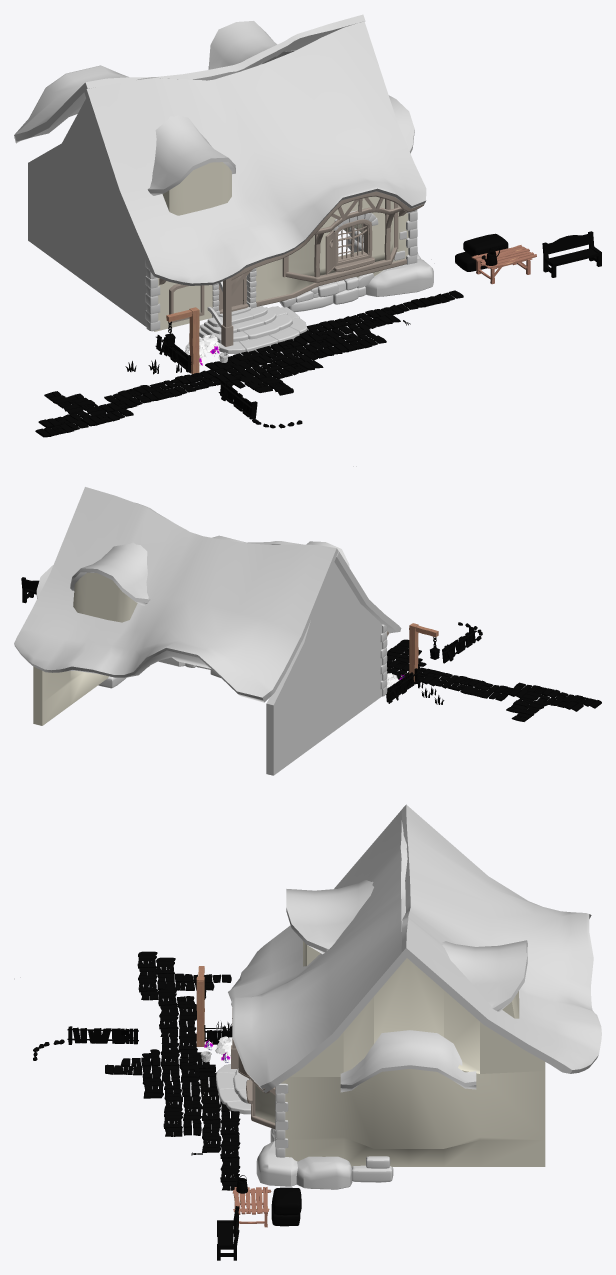
Rendered from home.fbx.
3 views of the same model, one above another, from view 1: azimuth 30°, elevation 25°; view 2: azimuth 150°, elevation 25°; view 3: azimuth 270°, elevation 25° (orthographic). The views are drawn at different scales.
Parts seen in each view (by area): view 1: roof, walls, outside; view 2: roof, walls, outside; view 3: roof, walls, outside.
Part boxes in pixels (bbox=[...]): roof: bbox=[14, 14, 426, 285]; walls: bbox=[28, 95, 433, 353]; outside: bbox=[35, 231, 601, 437]; roof: bbox=[14, 487, 401, 702]; walls: bbox=[33, 562, 389, 775]; outside: bbox=[21, 577, 601, 721]; roof: bbox=[228, 804, 601, 1092]; walls: bbox=[216, 958, 545, 1189]; outside: bbox=[33, 951, 301, 1260].
Bounding box in the file's own units: 2254 × 809 × 1824.
